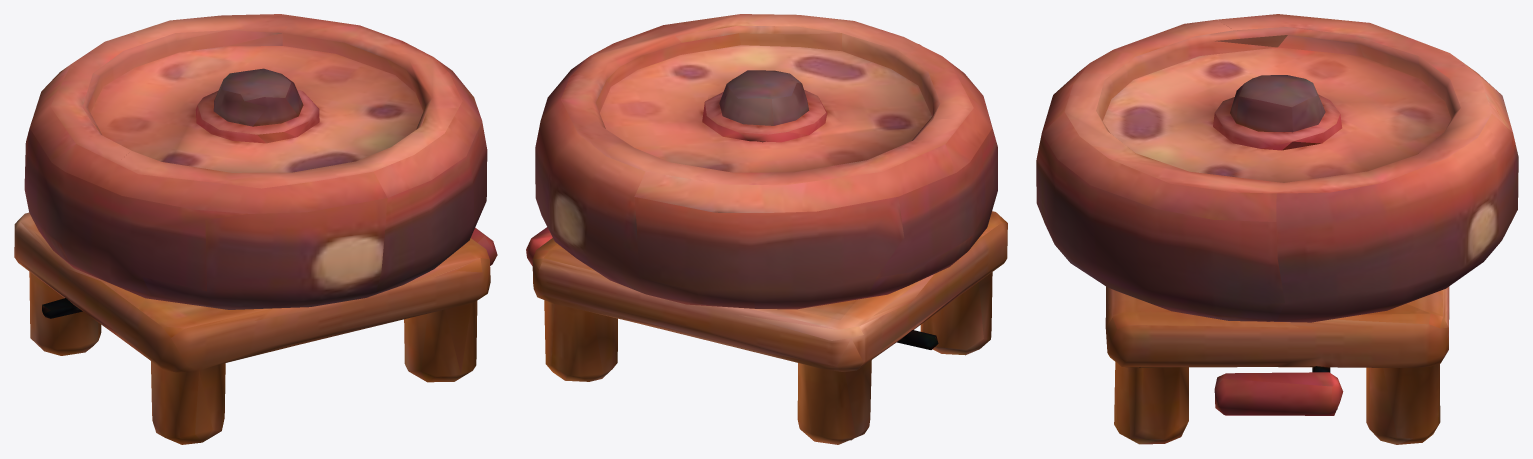
The model's file is lg-grindstone.glb.
3 views of the same model, side by side, from view 1: azimuth 30°, elevation 25°; view 2: azimuth 150°, elevation 25°; view 3: azimuth 270°, elevation 25° (orthographic). The views are drawn at different scales.
Parts seen in each view (by area): view 1: geometry_0; view 2: geometry_0; view 3: geometry_0.
Boxes of the visible parts, x1,y1,x2,y2 form: geometry_0: (14, 14, 497, 444); geometry_0: (526, 14, 1007, 444); geometry_0: (1036, 14, 1518, 444).
Bounding box in the file's own units: 1 × 0.633 × 0.9714.
Materials: 1 (1 with a texture image).
